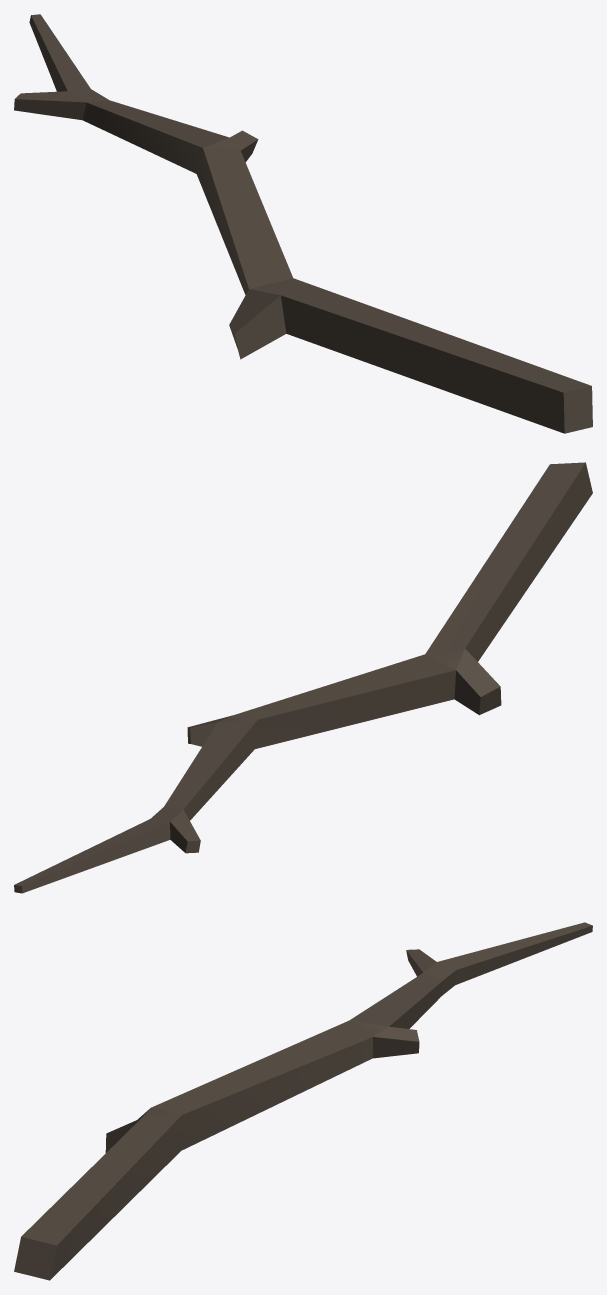
The model's file is samurai_SM_Gen_Env_Twig_02.gltf.
3 views of the same model, one above another, from view 1: azimuth 30°, elevation 25°; view 2: azimuth 150°, elevation 25°; view 3: azimuth 330°, elevation 25° (orthographic). The views are drawn at different scales.
Parts seen in each view (by area): view 1: SM_Gen_Env_Twig_02; view 2: SM_Gen_Env_Twig_02; view 3: SM_Gen_Env_Twig_02.
Boxes of the visible parts, bbox=[...] form: SM_Gen_Env_Twig_02: bbox=[14, 14, 592, 433]; SM_Gen_Env_Twig_02: bbox=[14, 462, 592, 893]; SM_Gen_Env_Twig_02: bbox=[14, 922, 592, 1280].
Size of the model in its own units: 0.1628 by 0.0795 by 0.8836.
1 material, 1 textured.
